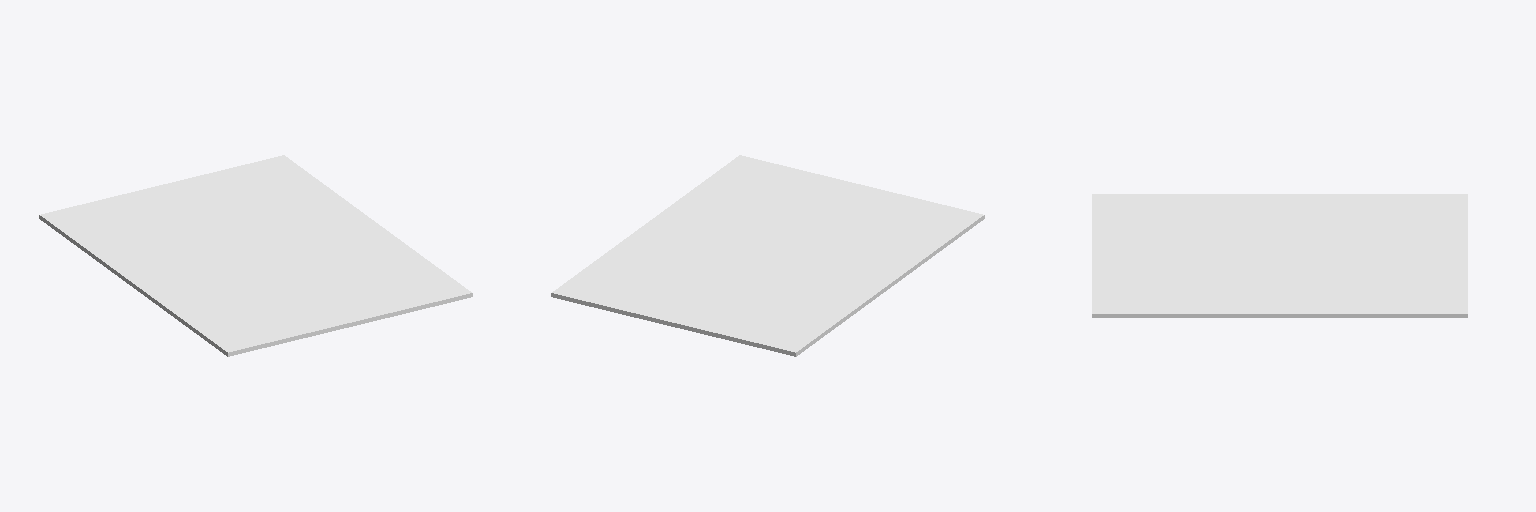
Rendered from welcomecarpet.obj.
The picture shows the model from 3 angles: view 1: azimuth 30°, elevation 25°; view 2: azimuth 150°, elevation 25°; view 3: azimuth 270°, elevation 25°; orthographic projection.
Visible parts, largest first — view 1: object 1; view 2: object 1; view 3: object 1.
Boxes of the visible parts, x1,y1,x2,y2 form: object 1: [39, 155, 472, 356]; object 1: [551, 155, 984, 356]; object 1: [1092, 194, 1467, 317].
Bounding box in the file's own units: 6 × 0.1 × 8.